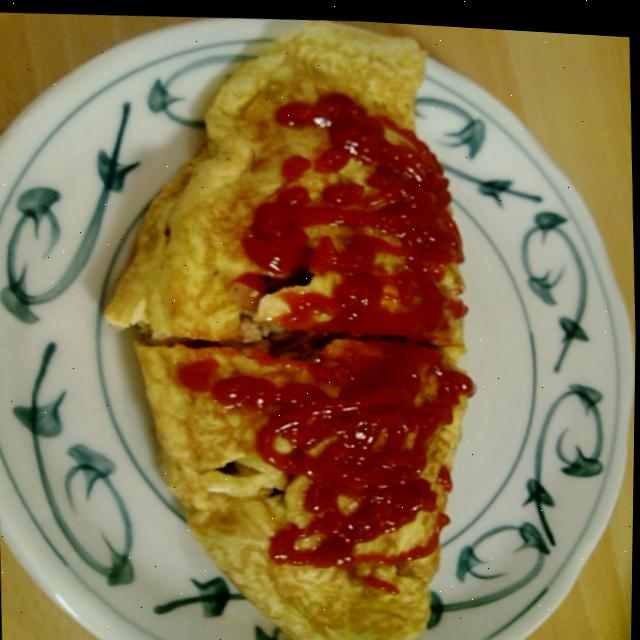鸡蛋料理: (80, 4, 507, 640)
